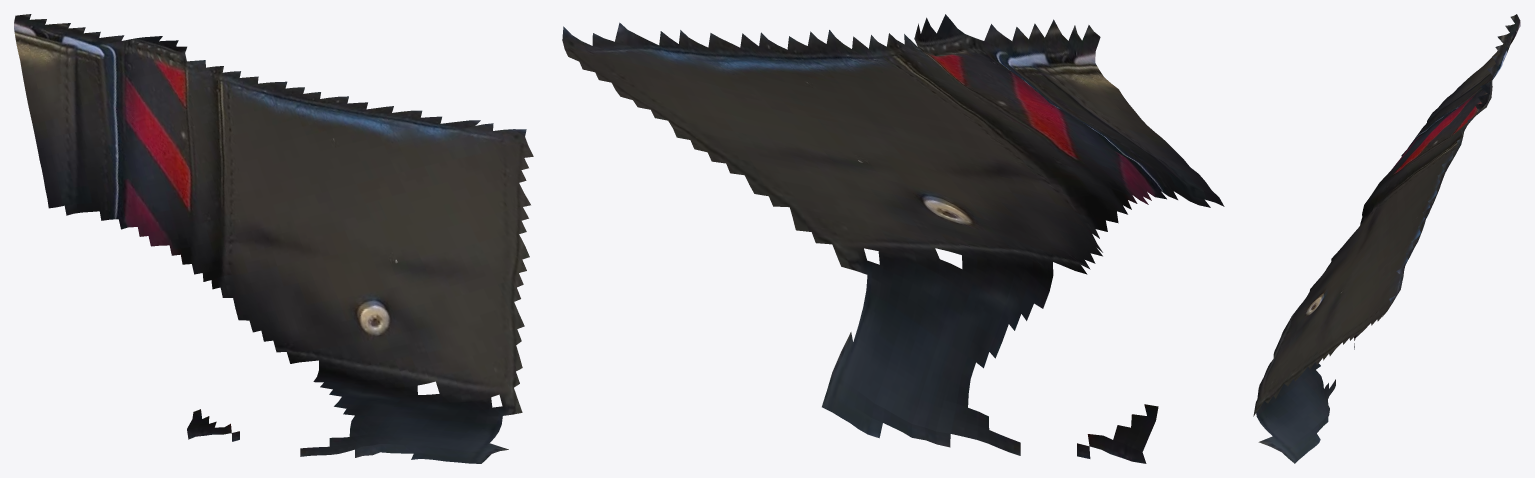
File: observed-surface.glb
3 renders of one model, left to right at view 1: azimuth 30°, elevation 25°; view 2: azimuth 150°, elevation 25°; view 3: azimuth 270°, elevation 25°, orthographic. The views are drawn at different scales.
Visible parts, largest first — view 1: geometry_0; view 2: geometry_0; view 3: geometry_0.
Part boxes in pixels (bbox=[...]): geometry_0: bbox=[14, 14, 533, 463]; geometry_0: bbox=[562, 14, 1224, 463]; geometry_0: bbox=[1253, 14, 1520, 463].
Size of the model in its own units: 0.5683 by 0.5072 by 0.3733.
Materials: 1 (1 with a texture image).
